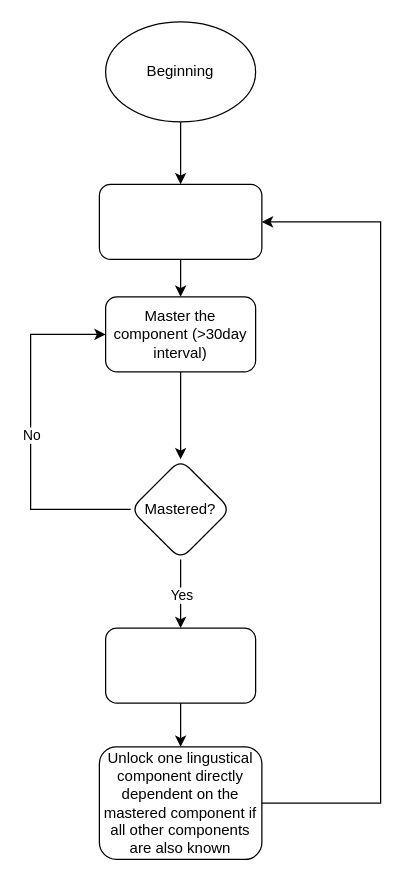
Image size: 413x881. Some labels were removed from this diagram. Here are the shapes that lost their labels. From the top down, the centre of each, then its label:
(180,221): Start learning new lingustical component (kana, kanji, word, etc)
(180,665): set component attribute "mastered" to true
